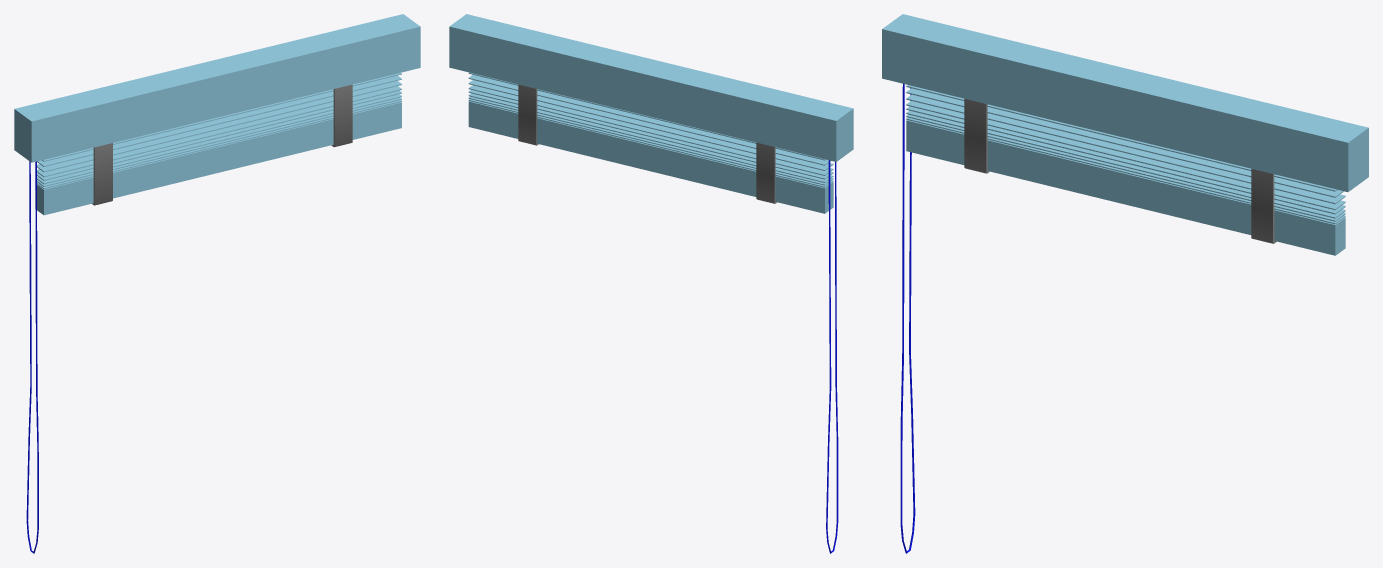
Rendered from PROPS_sunblind_02a.FBX.
The picture shows the model from 3 angles, left to right: view 1: azimuth 30°, elevation 25°; view 2: azimuth 150°, elevation 25°; view 3: azimuth 330°, elevation 25°; orthographic projection. The views are drawn at different scales.
Visible parts, largest first — view 1: PROPS_sunblind_02a; view 2: PROPS_sunblind_02a; view 3: PROPS_sunblind_02a.
Part boxes in pixels (left/top/right/bottom): PROPS_sunblind_02a: left=14, top=14, right=420, bottom=553; PROPS_sunblind_02a: left=449, top=14, right=853, bottom=553; PROPS_sunblind_02a: left=882, top=14, right=1368, bottom=553.
Bounding box in the file's own units: 164 × 178 × 12.61.
